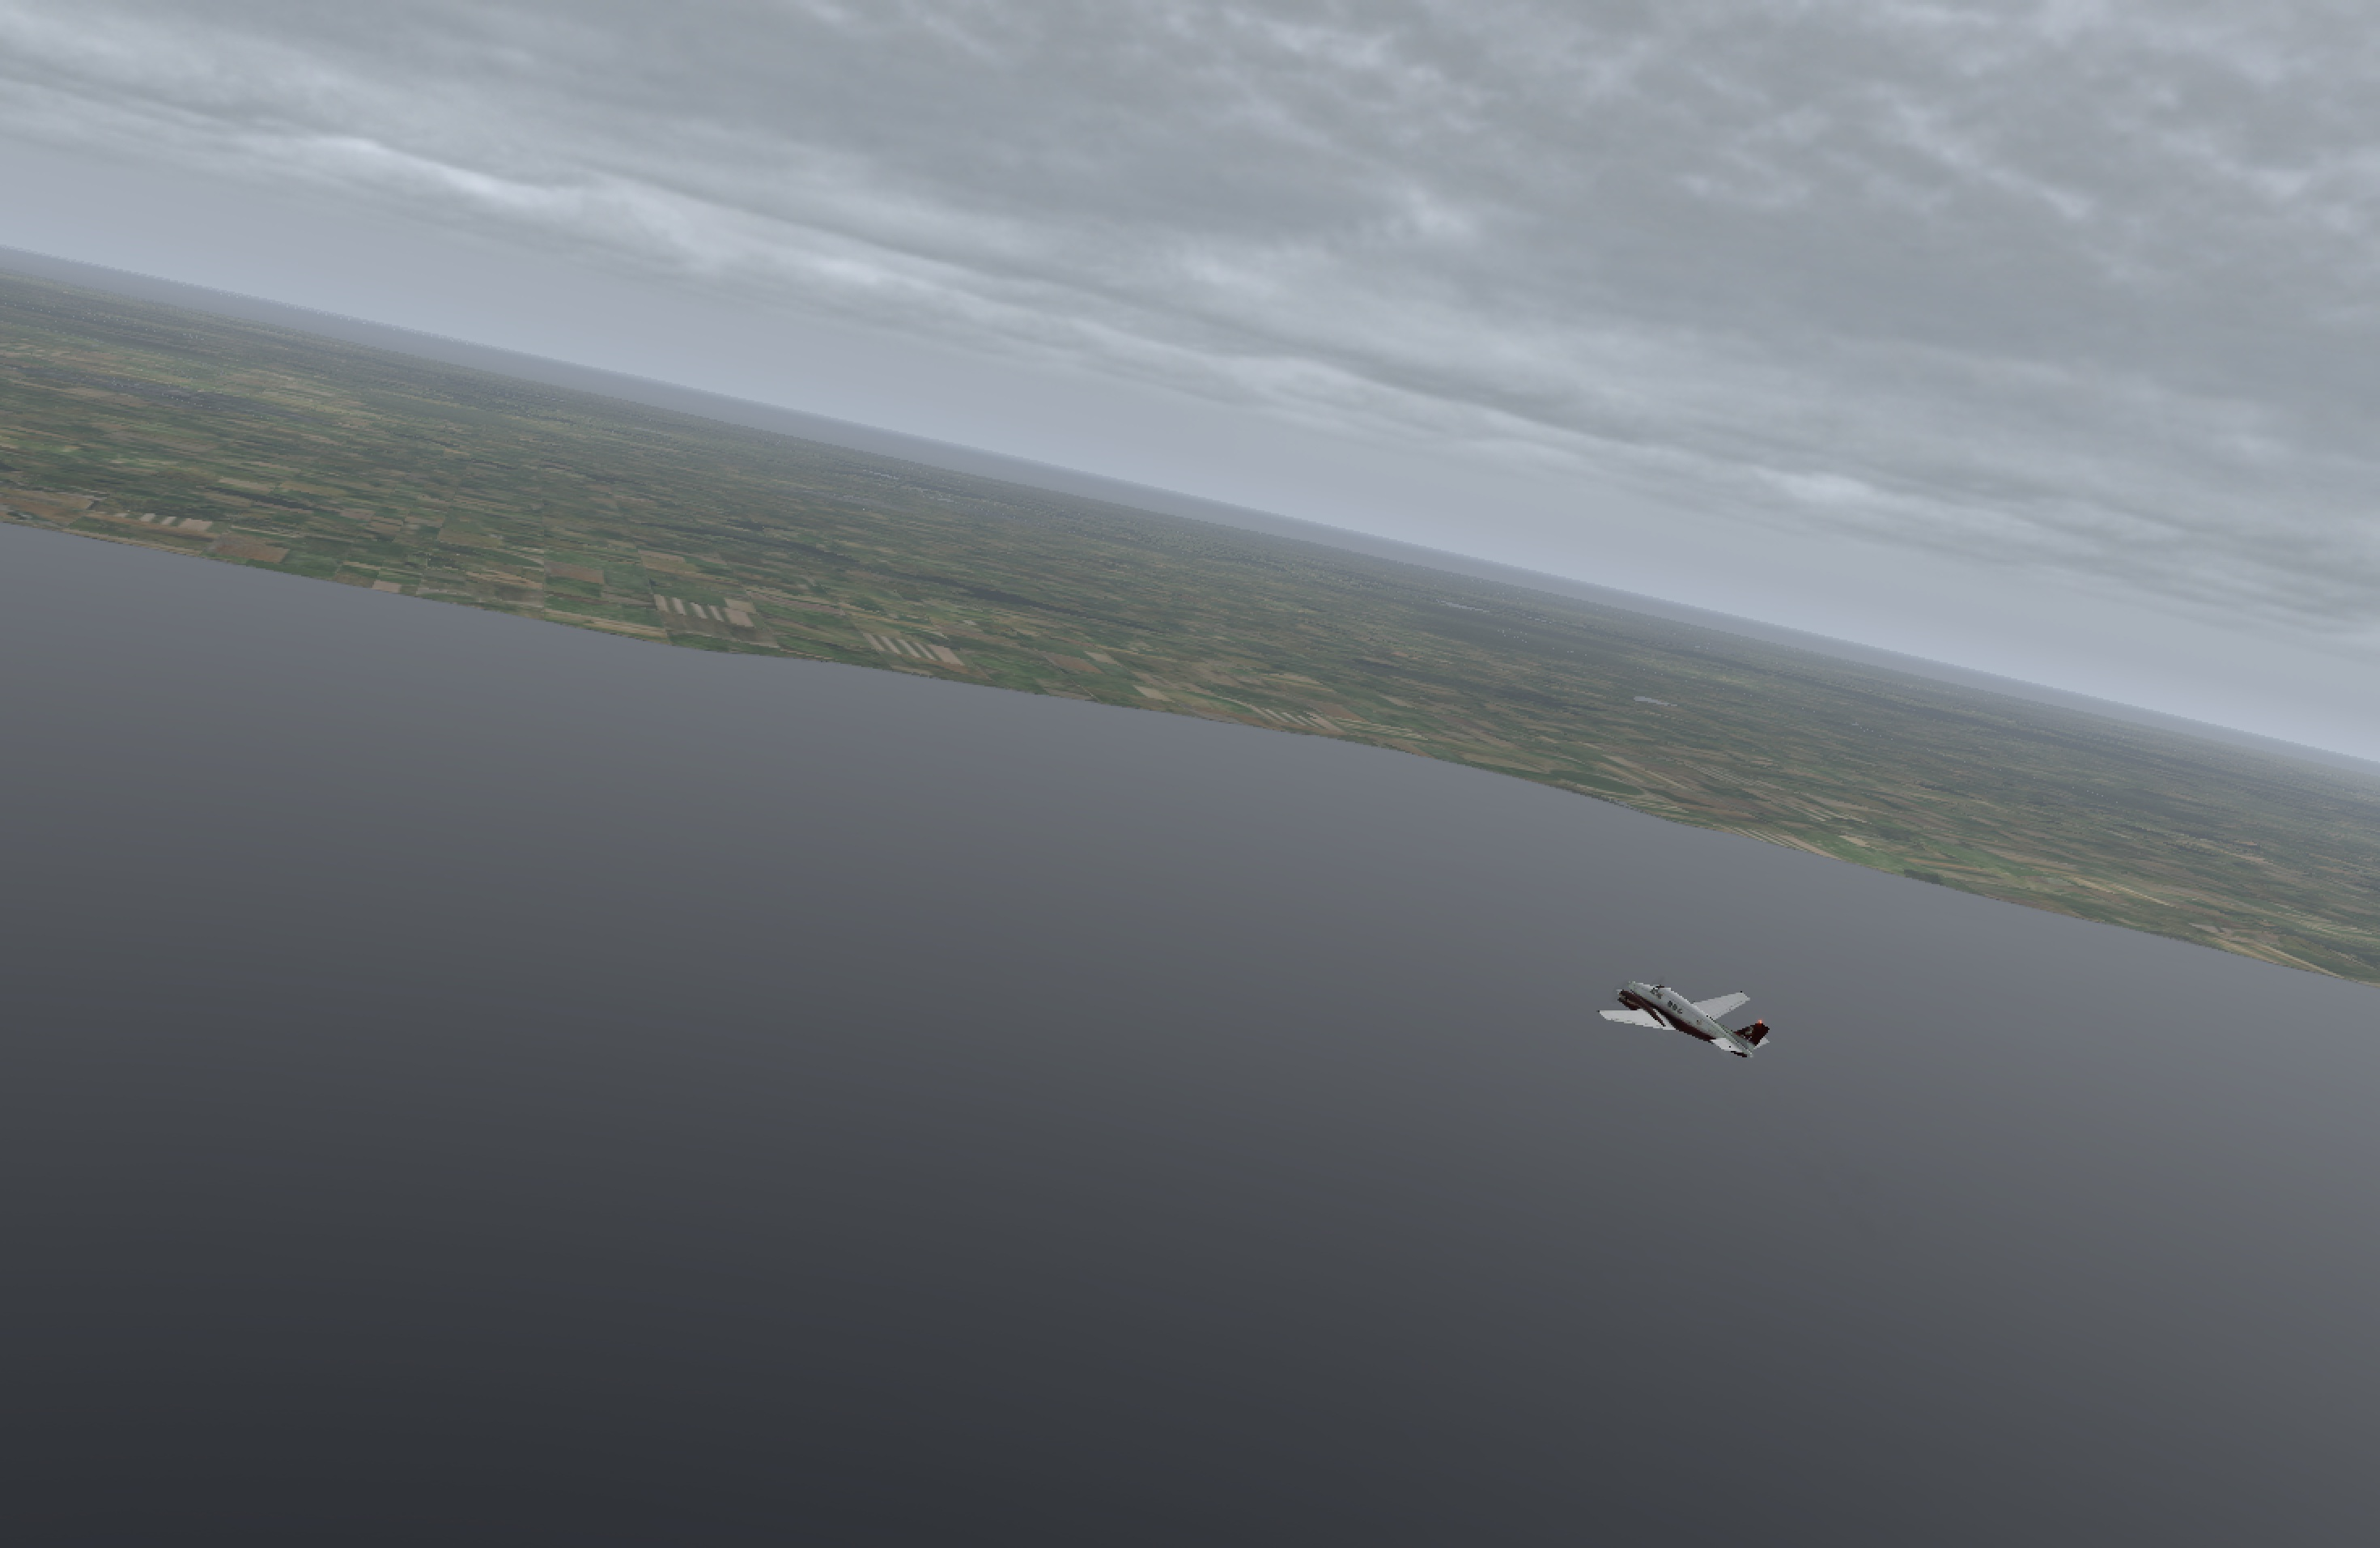aircraft: (1551, 972, 1782, 1059)
